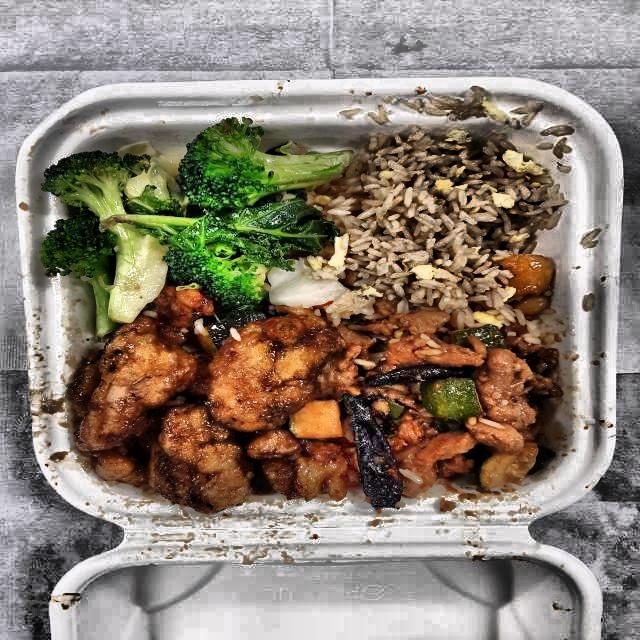Food: (34, 116, 337, 333), (292, 302, 567, 512), (62, 312, 343, 516), (318, 128, 558, 322)
